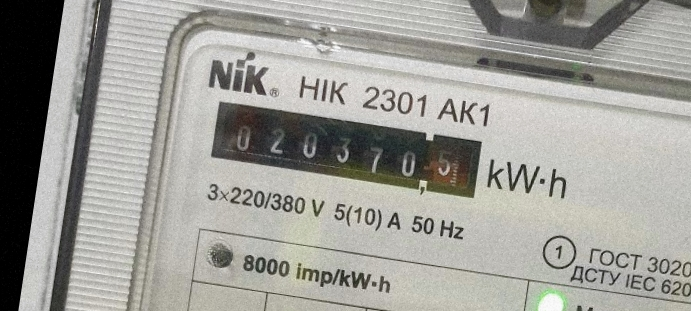0: (397, 148, 419, 180), (232, 121, 253, 152), (299, 129, 318, 159)
2: (265, 124, 288, 157)
3: (332, 133, 352, 165)
5: (433, 146, 455, 179)
7: (364, 144, 383, 176)
screen: (201, 93, 491, 209)
